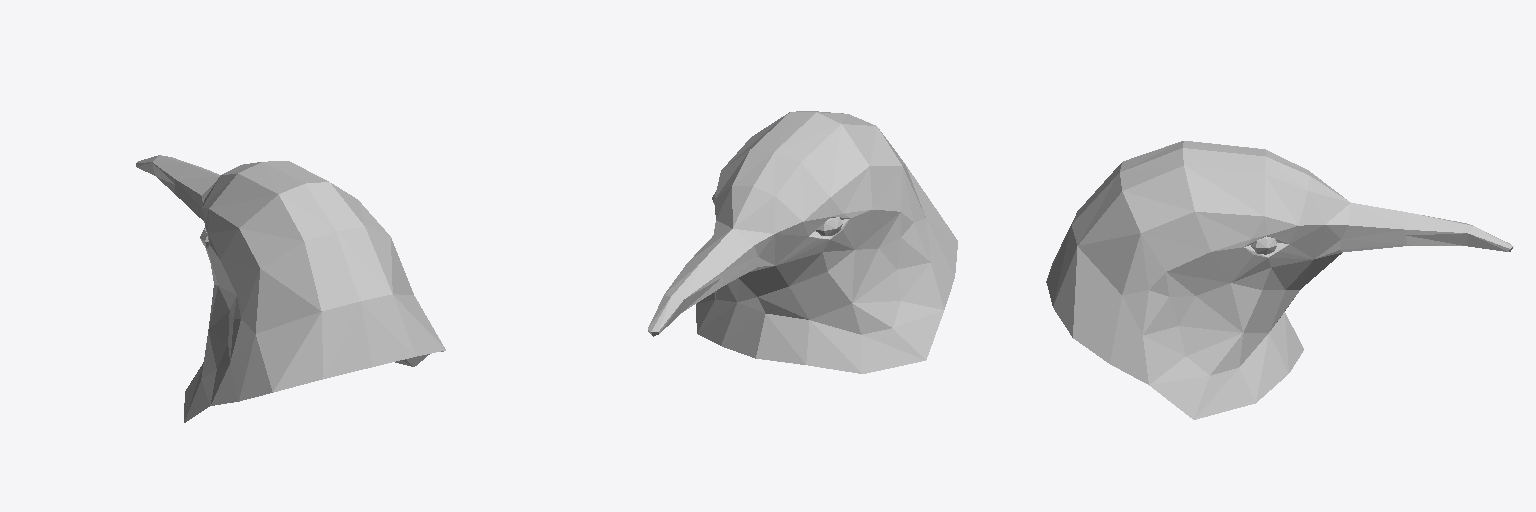
The model's file is pingu_head.obj.
3 views of the same model, side by side, from view 1: azimuth 30°, elevation 25°; view 2: azimuth 150°, elevation 25°; view 3: azimuth 270°, elevation 25° (orthographic).
Visible parts, largest first — view 1: pinguin_001.001; view 2: pinguin_001.001; view 3: pinguin_001.001.
Boxes of the visible parts, <box> form: pinguin_001.001: <box>136,155,445,422</box>; pinguin_001.001: <box>648,111,957,373</box>; pinguin_001.001: <box>1046,141,1513,419</box>.
Bounding box in the file's own units: 0.2889 × 0.2588 × 0.5073.